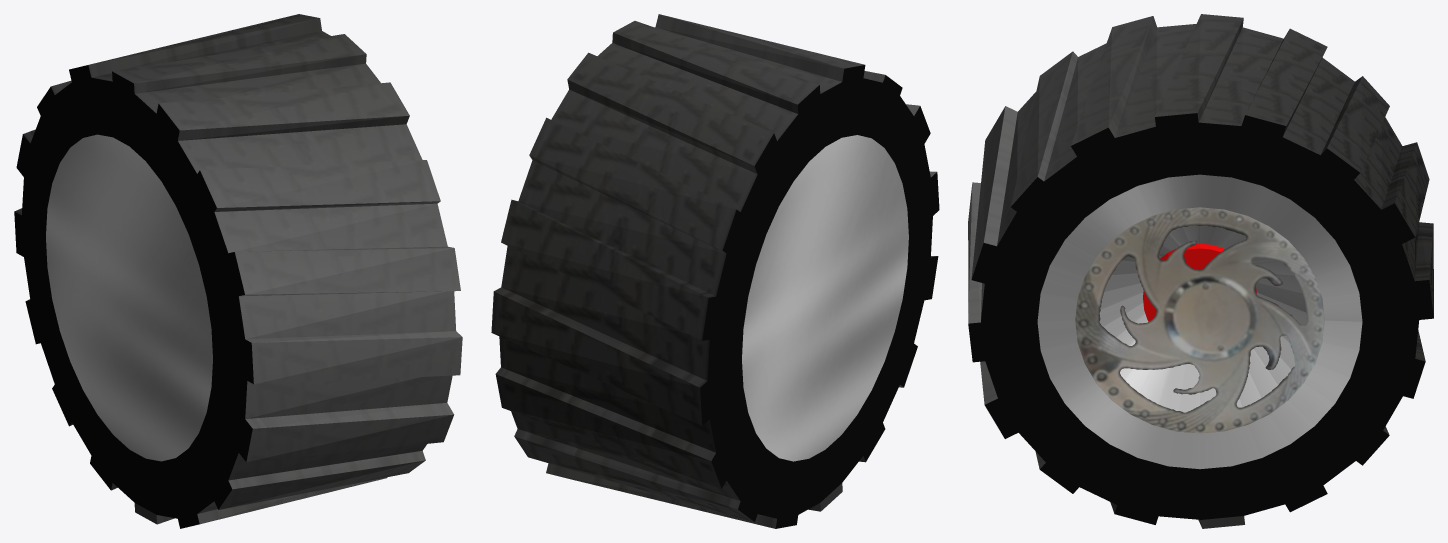
File: rad.obj
3 renders of one model, left to right at view 1: azimuth 30°, elevation 25°; view 2: azimuth 150°, elevation 25°; view 3: azimuth 270°, elevation 25°, orthographic. The views are drawn at different scales.
Parts seen in each view (by area): view 1: Cylinder_Cylinder.002; view 2: Cylinder_Cylinder.002; view 3: Cylinder_Cylinder.002.
Boxes of the visible parts, x1,y1,x2,y2 form: Cylinder_Cylinder.002: [14, 14, 462, 528]; Cylinder_Cylinder.002: [491, 14, 939, 528]; Cylinder_Cylinder.002: [968, 14, 1433, 528].
Size of the model in its own units: 0.8221 by 1.54 by 1.56.
